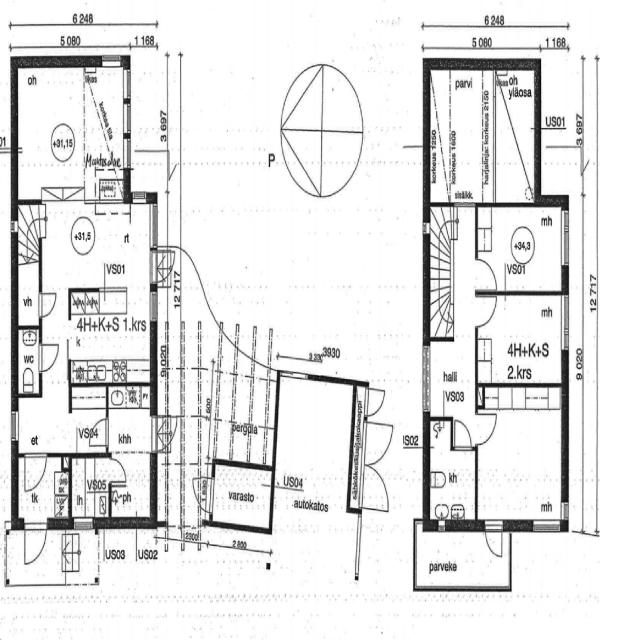door: (319, 62, 363, 202), (16, 328, 42, 395), (452, 413, 496, 449), (364, 418, 394, 466), (22, 520, 48, 566), (362, 464, 388, 510), (23, 451, 48, 492), (473, 255, 499, 293), (474, 292, 499, 328), (475, 407, 499, 444), (484, 520, 505, 559), (451, 416, 474, 450), (364, 384, 387, 418), (37, 339, 59, 374), (88, 415, 110, 449), (36, 289, 58, 319), (149, 413, 165, 454), (109, 454, 128, 484), (122, 135, 134, 170)
window: (420, 340, 433, 418), (559, 288, 572, 356), (560, 205, 572, 272), (148, 197, 161, 250), (354, 512, 362, 582), (148, 412, 160, 455), (8, 407, 21, 445), (148, 286, 160, 326), (531, 518, 562, 533), (279, 368, 309, 383), (72, 515, 96, 531), (122, 136, 134, 168), (123, 100, 133, 136), (122, 66, 132, 101), (100, 54, 123, 68), (8, 212, 18, 238), (559, 499, 570, 522), (435, 518, 448, 532)
zone: (47, 198, 154, 378), (32, 62, 128, 194), (278, 374, 354, 536), (478, 386, 564, 523), (15, 67, 84, 199), (474, 202, 567, 294), (430, 69, 493, 203), (476, 292, 566, 385), (493, 68, 539, 202), (84, 62, 128, 192), (211, 464, 272, 527), (428, 446, 478, 522), (106, 383, 154, 458), (109, 454, 153, 520), (70, 455, 110, 521), (16, 326, 41, 395), (15, 262, 40, 326), (100, 526, 138, 561), (429, 417, 452, 453)
